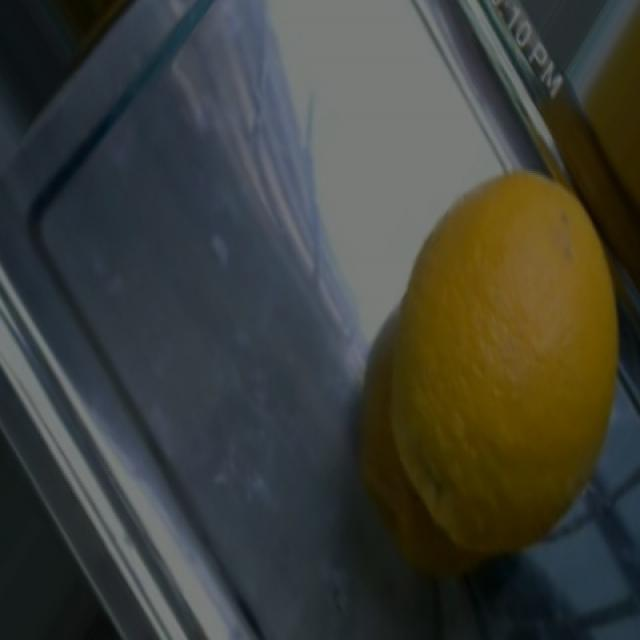Fruit: (382, 147, 634, 443)
